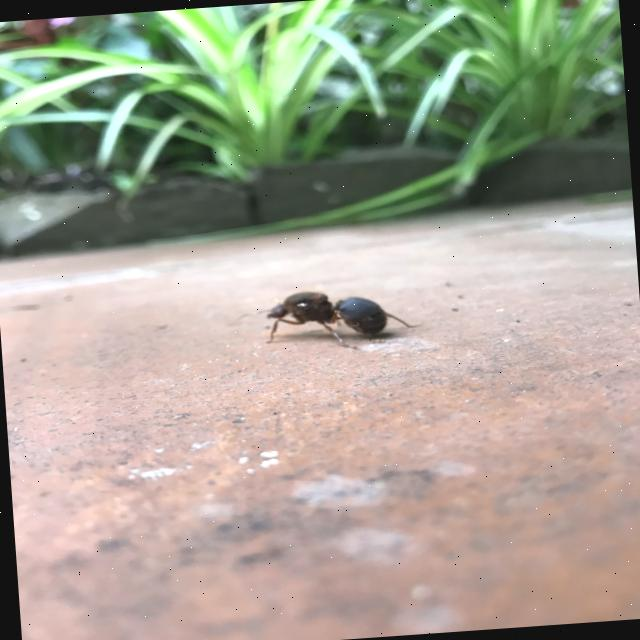Alive-Female-Dealate: (235, 282, 422, 359)
